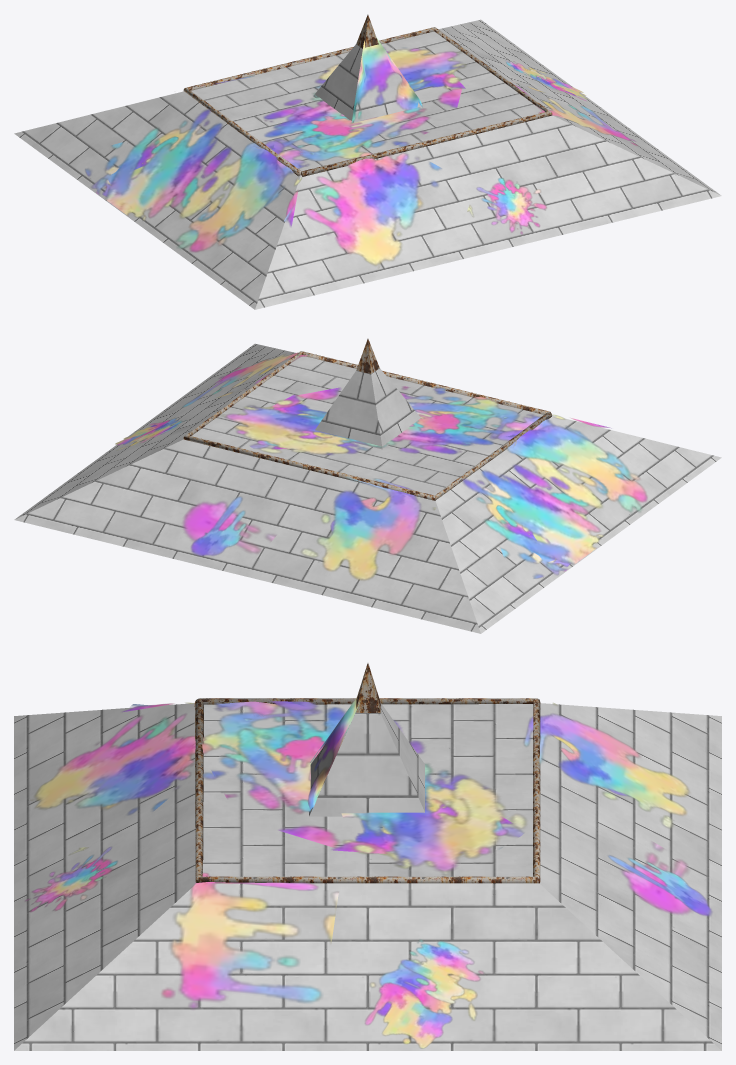
Rendered from Funbox.glb.
3 renders of one model, top to bottom at view 1: azimuth 30°, elevation 25°; view 2: azimuth 150°, elevation 25°; view 3: azimuth 270°, elevation 25°, orthographic. The views are drawn at different scales.
Visible parts, largest first — view 1: Funbox_Body, Funbox_Paint, Funbox_Coping; view 2: Funbox_Body, Funbox_Paint, Funbox_Coping; view 3: Funbox_Body, Funbox_Paint, Funbox_Coping.
Part boxes in pixels (left/top/right/bottom): Funbox_Body: left=14, top=19, right=721, bottom=309; Funbox_Paint: left=85, top=37, right=637, bottom=268; Funbox_Coping: left=183, top=14, right=552, bottom=176; Funbox_Body: left=14, top=343, right=721, bottom=633; Funbox_Paint: left=115, top=352, right=647, bottom=580; Funbox_Coping: left=183, top=338, right=552, bottom=500; Funbox_Body: left=14, top=703, right=721, bottom=1050; Funbox_Paint: left=25, top=698, right=712, bottom=1048; Funbox_Coping: left=194, top=663, right=540, bottom=883.
Size of the model in its own units: 9.44 by 2.95 by 8.4.
3 materials, 3 textured.
